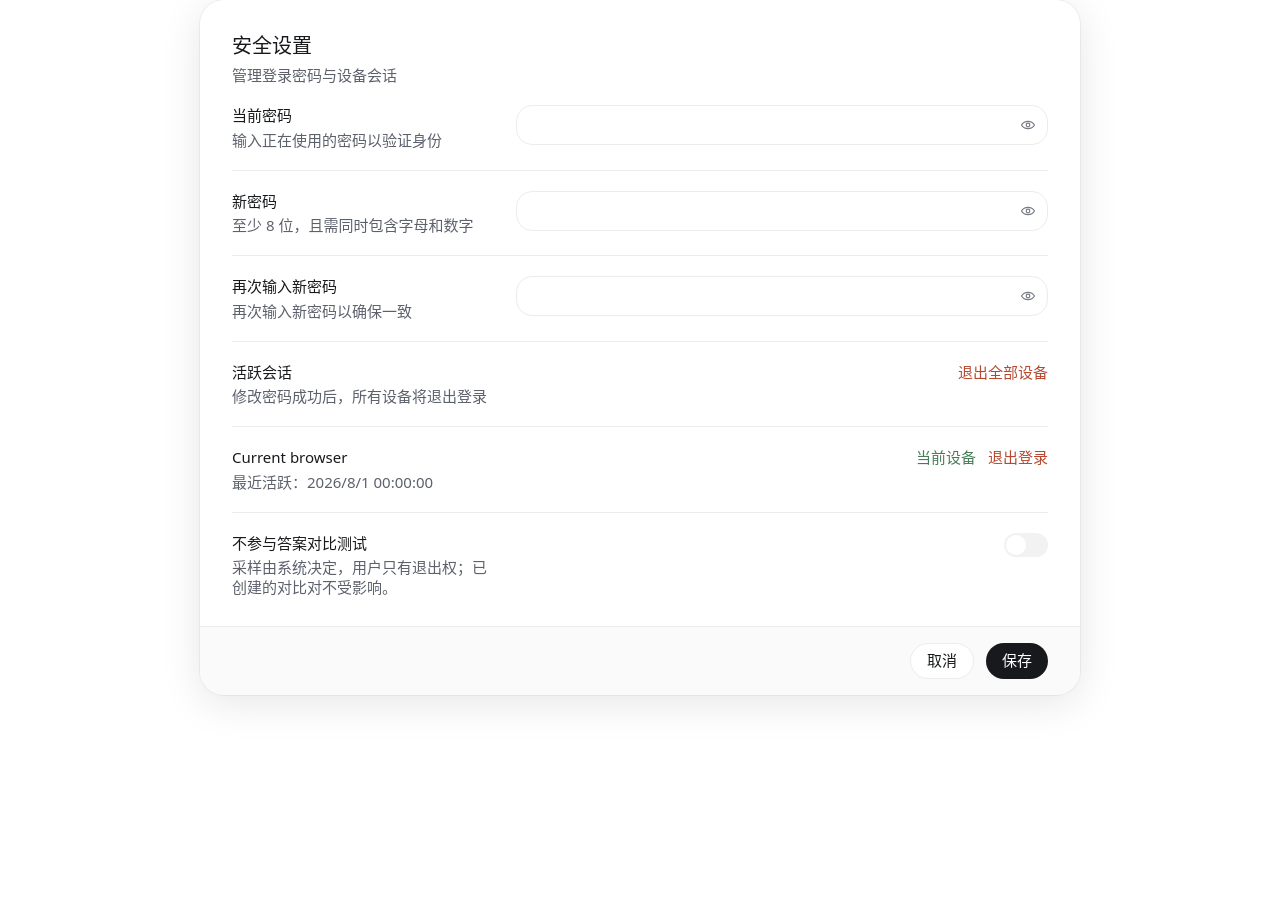
Scenario: SecurityModule › logs out all devices only after a danger ConfirmDialog (A38)
Expected: the text "Current browser" is shown, top-left (232, 447), bottom-right (347, 467)
Click the button "退出全部设备" at x=1003, y=372, box top-left (958, 362), bottom-right (1048, 382)
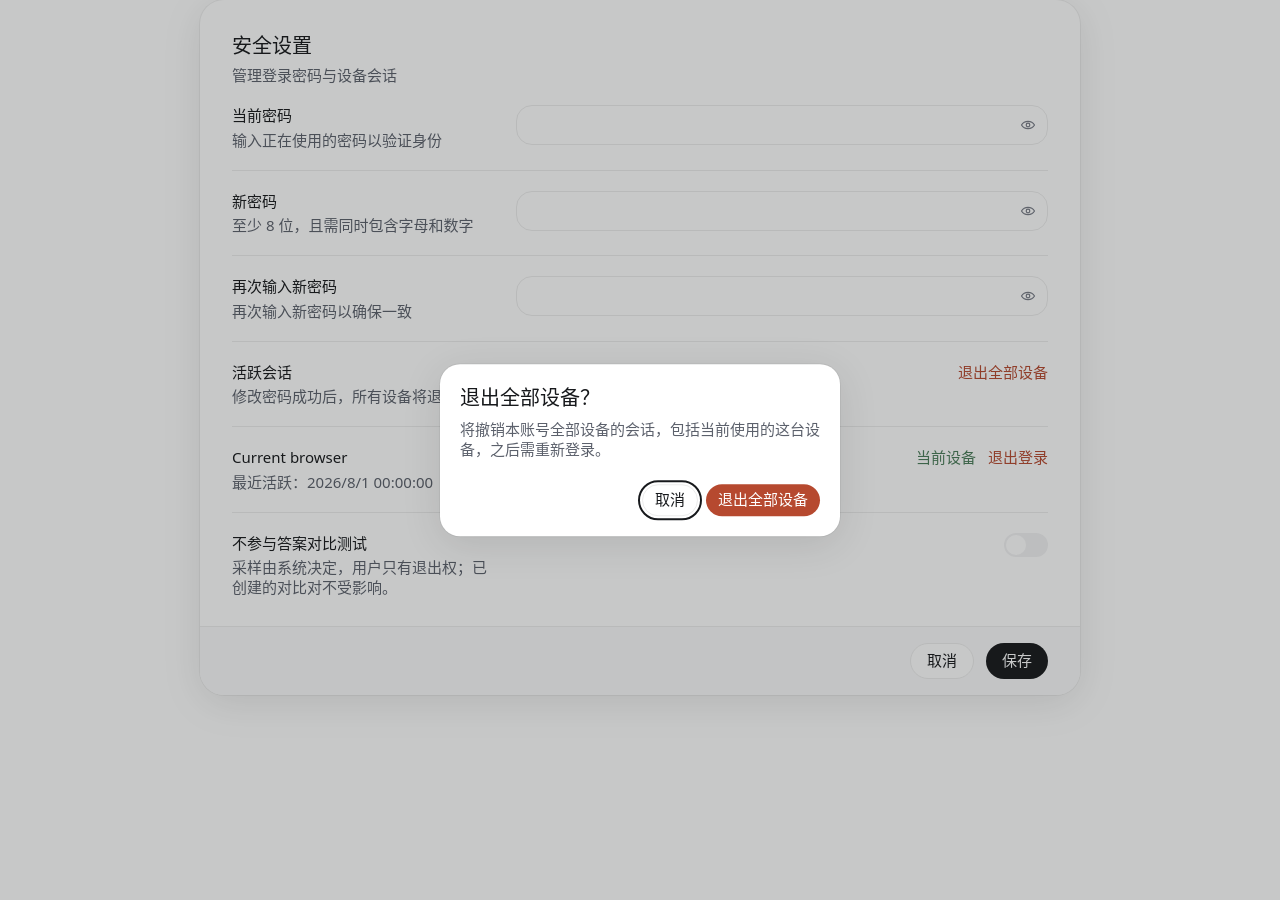
Now the text "将撤销本账号全部设备的会话，包括当前使用的这台设备，之后需重新登录。" is shown, box top-left (460, 419), bottom-right (820, 460)
Click the button "退出全部设备" at x=763, y=500, box top-left (706, 484), bottom-right (820, 516)
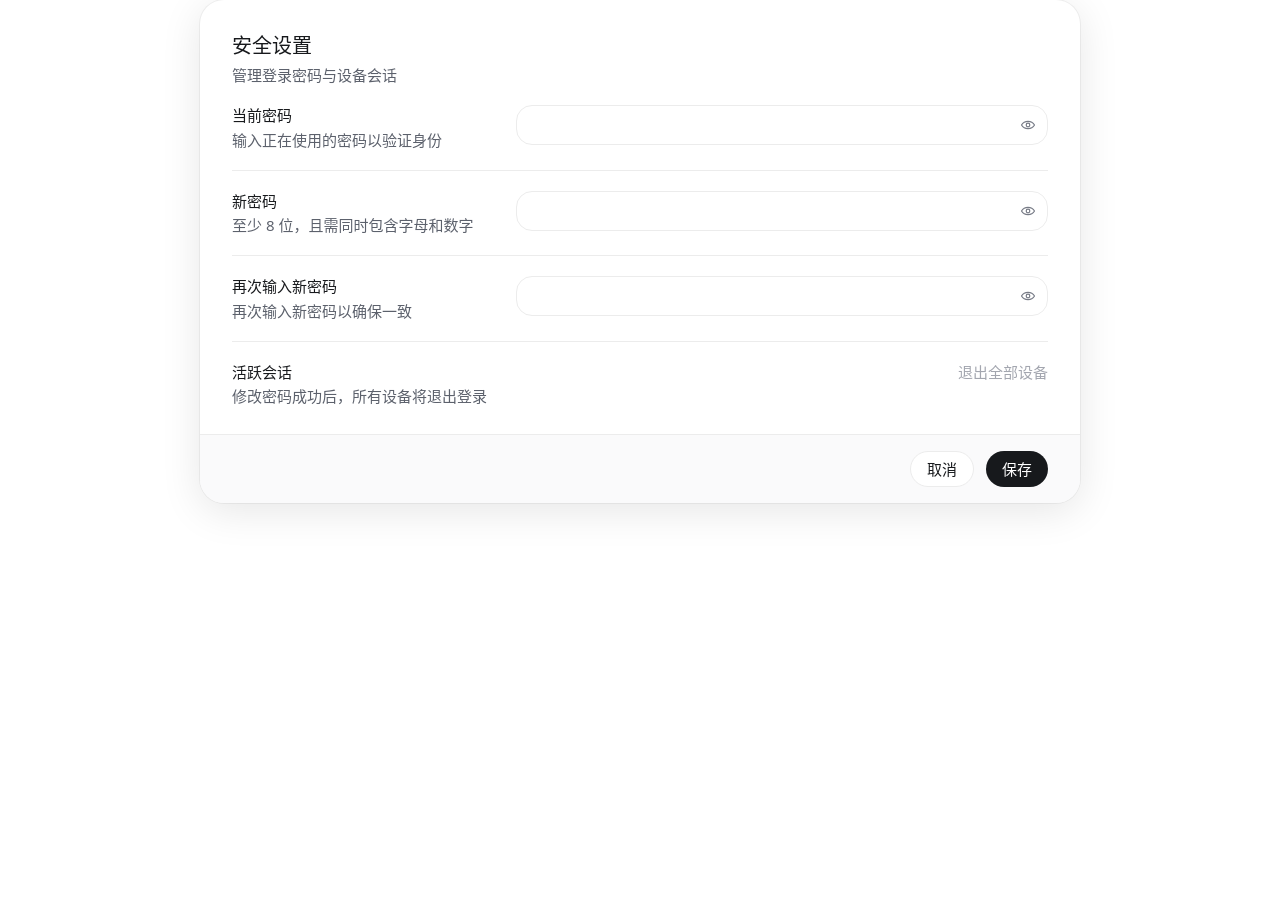
Now the dialog is gone
